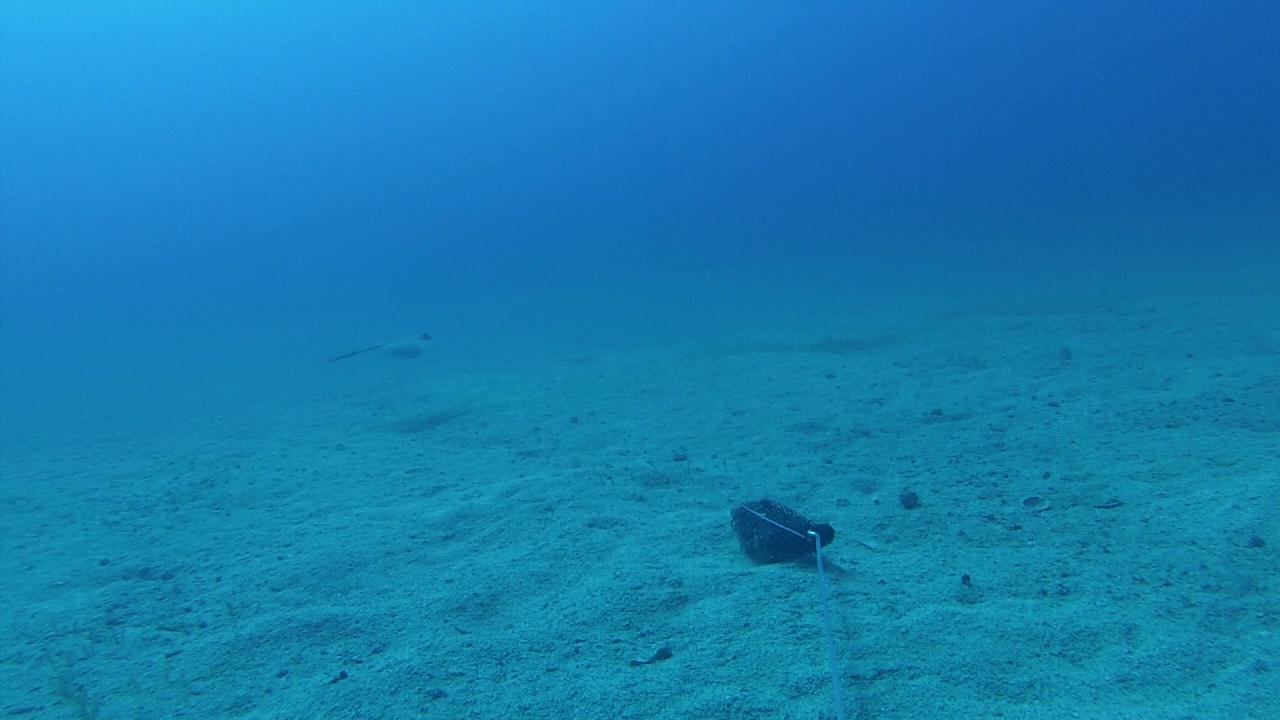dasyatis: (310, 328, 436, 368)
